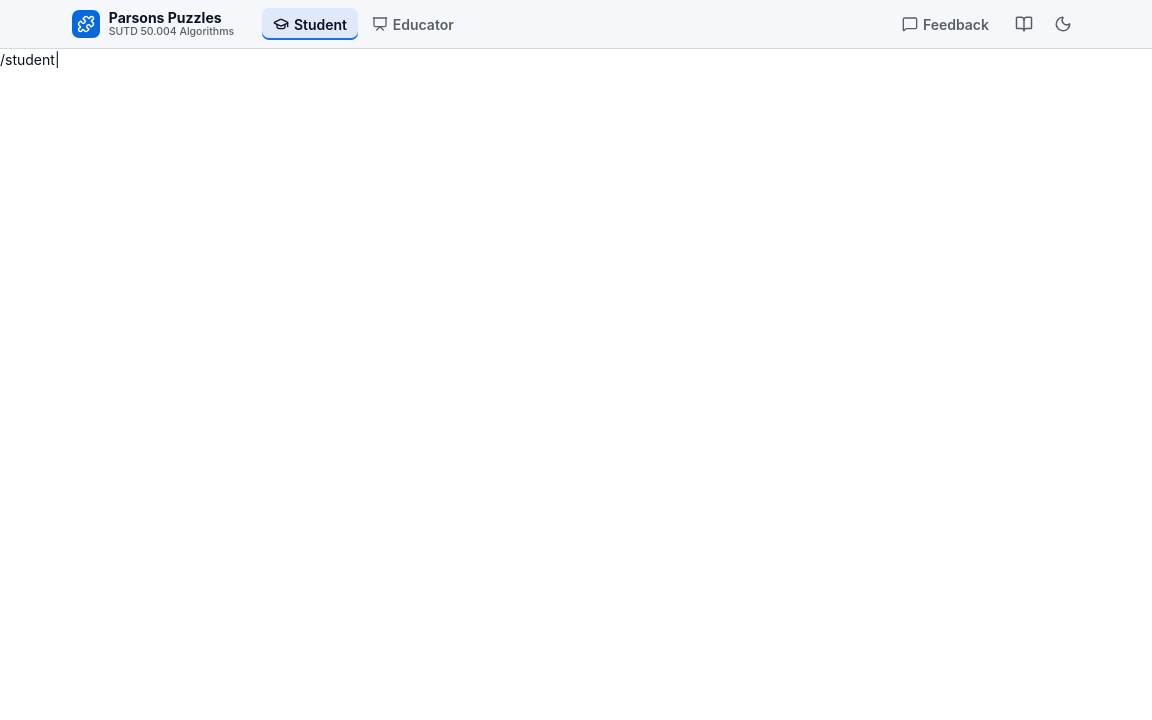
Test: NavigationHeader › opens the dictionary, searches it and shows a definition
Click the button named "Open dictionary": (1024, 24) left=1006, top=6, right=1042, bottom=42
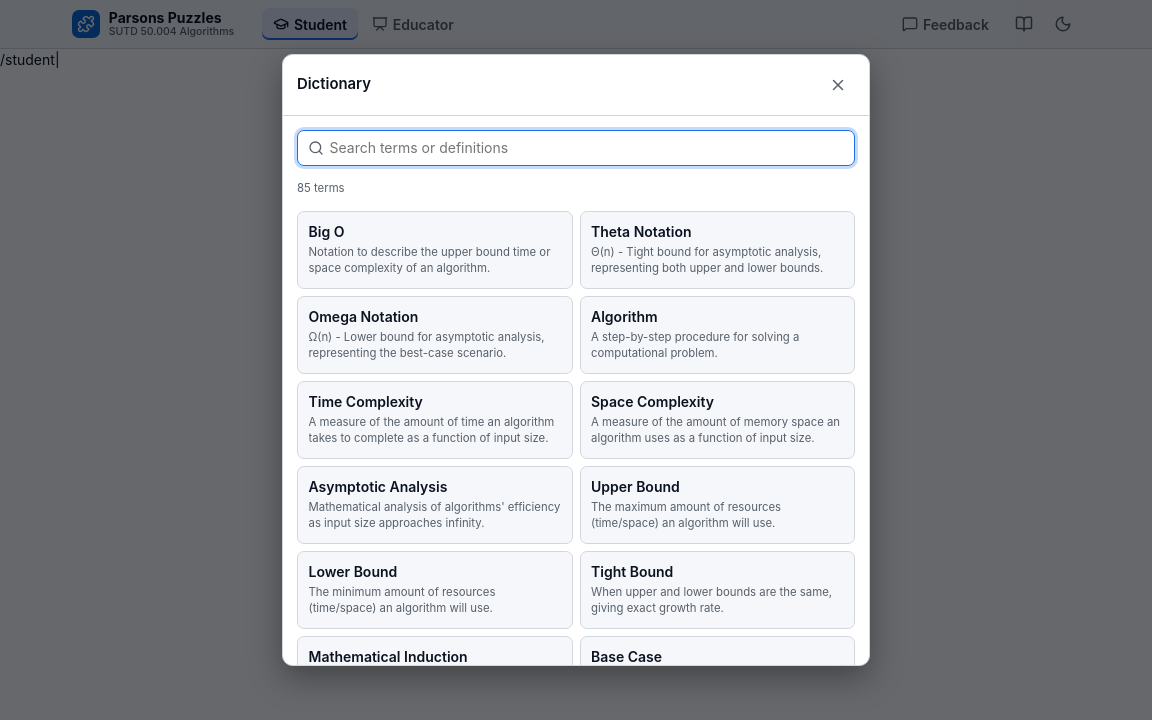
In the search field: (576, 148) left=297, top=130, right=855, bottom=166, type "Big O"
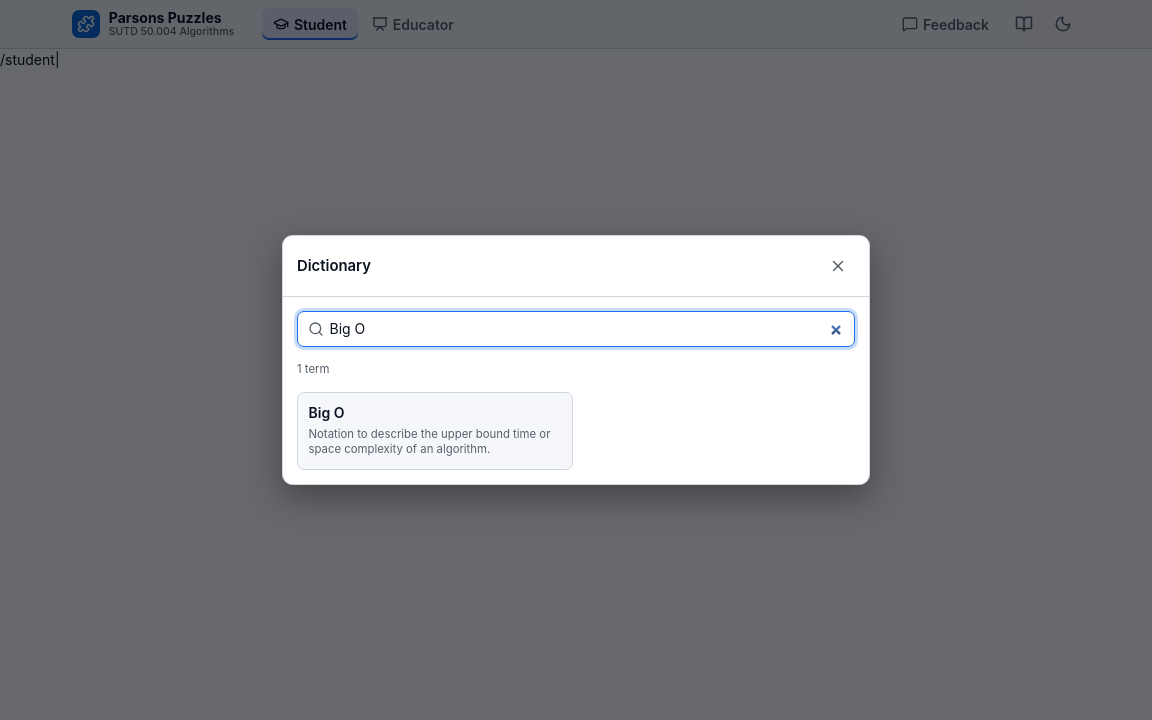
Click the button "Big O": (435, 431) left=297, top=392, right=572, bottom=470
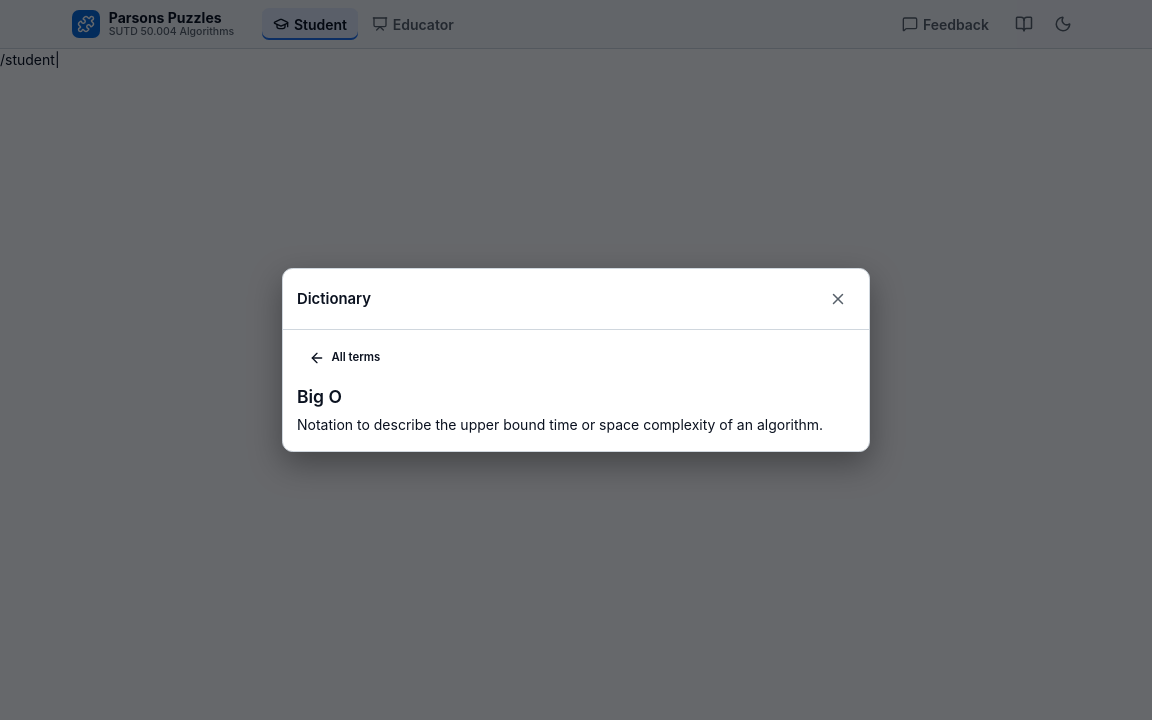
Now the heading "Big O" is shown, box left=297, top=386, right=342, bottom=408
Press Escape
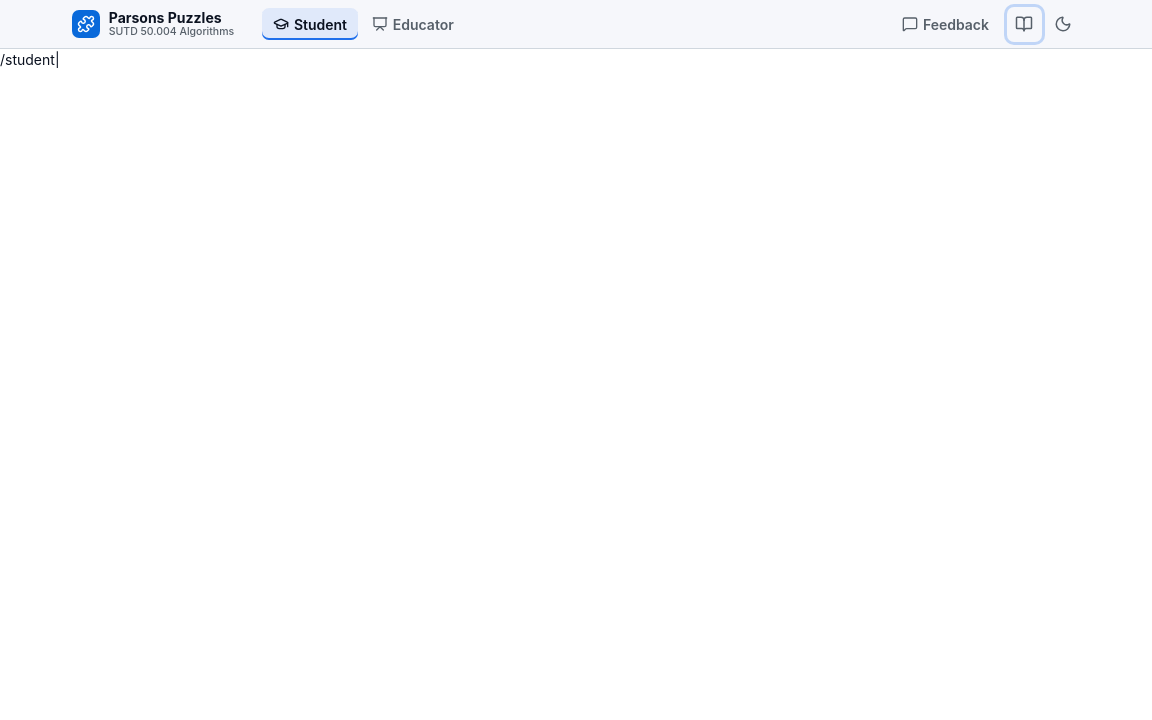
Now the dialog is gone
